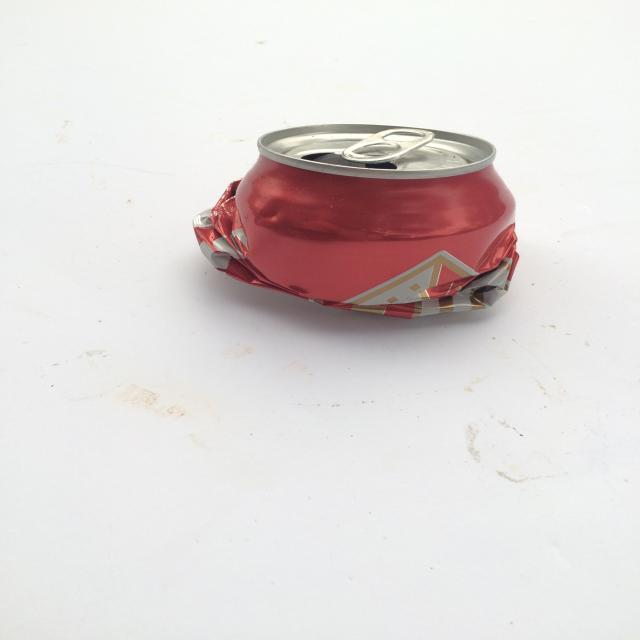metal: (190, 122, 522, 319)
